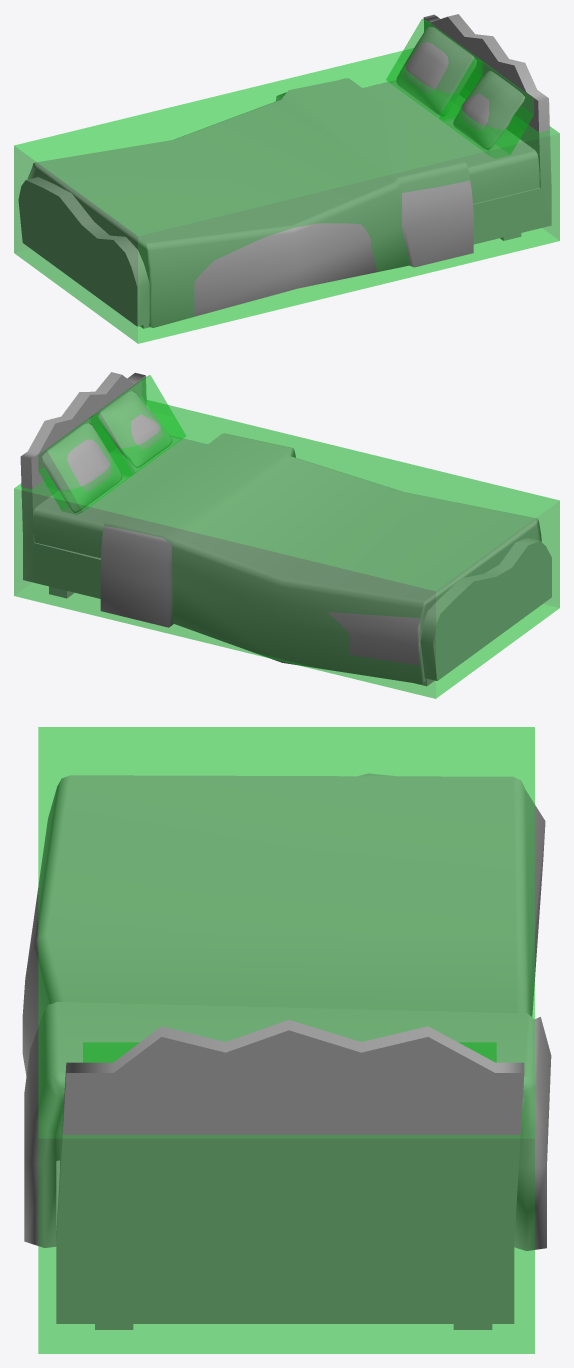
Rendered from Kid_Bed.fbx.
The picture shows the model from 3 angles, top to bottom: view 1: azimuth 30°, elevation 25°; view 2: azimuth 150°, elevation 25°; view 3: azimuth 270°, elevation 25°; orthographic projection. The views are drawn at different scales.
Parts seen in each view (by area): view 1: pCube87, Bed_1, pCube89, Pillow_1, pCube90, Pillow_2; view 2: pCube87, Bed_1, Pillow_1, pCube89, pCube90, Pillow_2; view 3: Bed_1, pCube87, pCube89.
Boxes of the visible parts, x1,y1,x2,y2 form: pCube87: [14, 48, 559, 343]; Bed_1: [18, 14, 551, 328]; pCube89: [439, 57, 533, 158]; Pillow_1: [396, 26, 476, 116]; pCube90: [386, 19, 480, 117]; Pillow_2: [452, 70, 525, 149]; pCube87: [14, 400, 559, 698]; Bed_1: [20, 372, 551, 686]; Pillow_1: [41, 422, 122, 512]; pCube89: [91, 375, 185, 473]; pCube90: [38, 413, 133, 514]; Pillow_2: [97, 390, 172, 467]; Bed_1: [22, 773, 551, 1329]; pCube87: [38, 727, 534, 1353]; pCube89: [83, 1042, 139, 1062].
Bounding box in the file's own units: 241 × 89.03 × 131.
